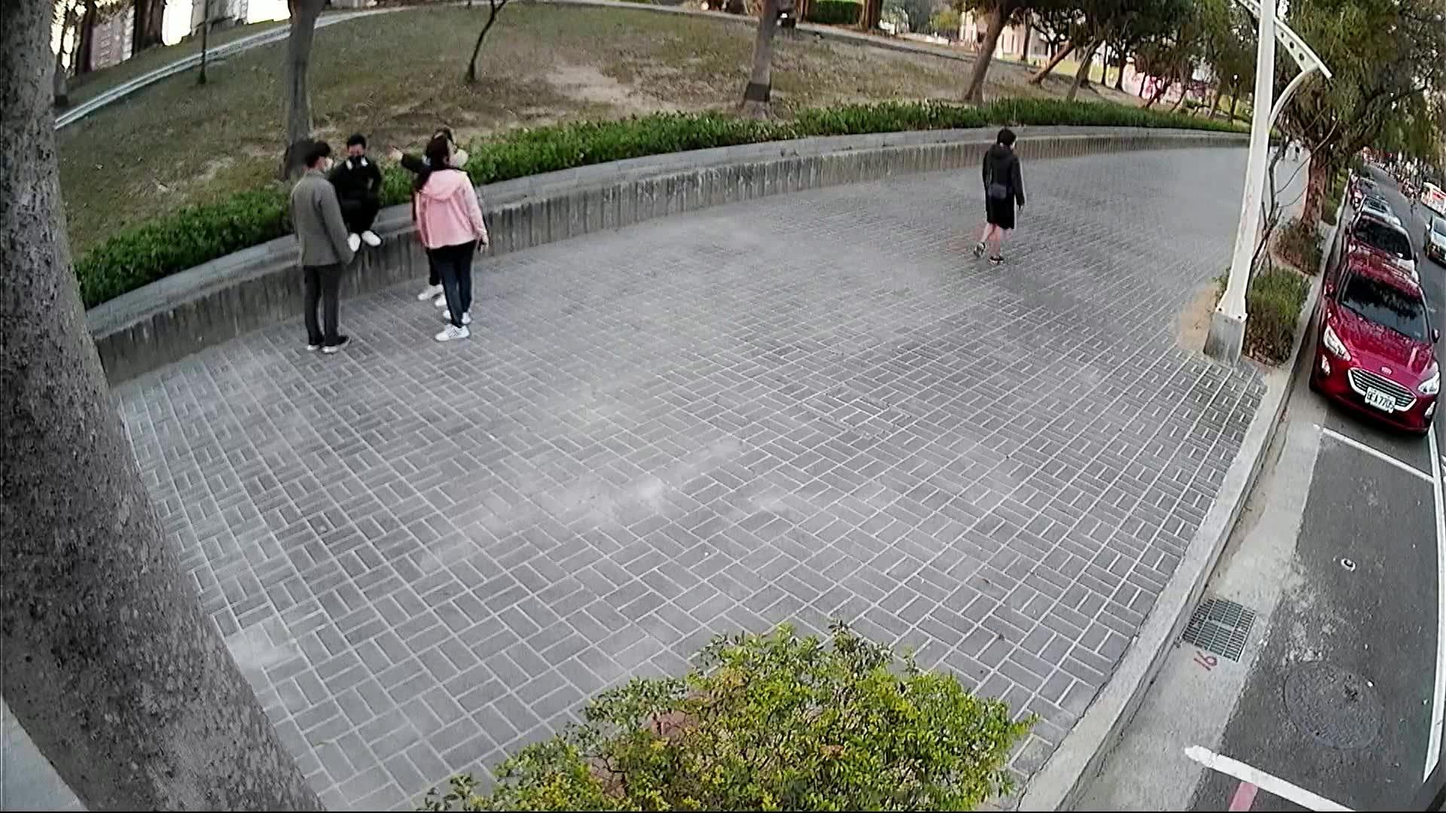person: (407, 129, 490, 343), (277, 133, 355, 358), (966, 123, 1027, 269), (319, 131, 386, 255)
